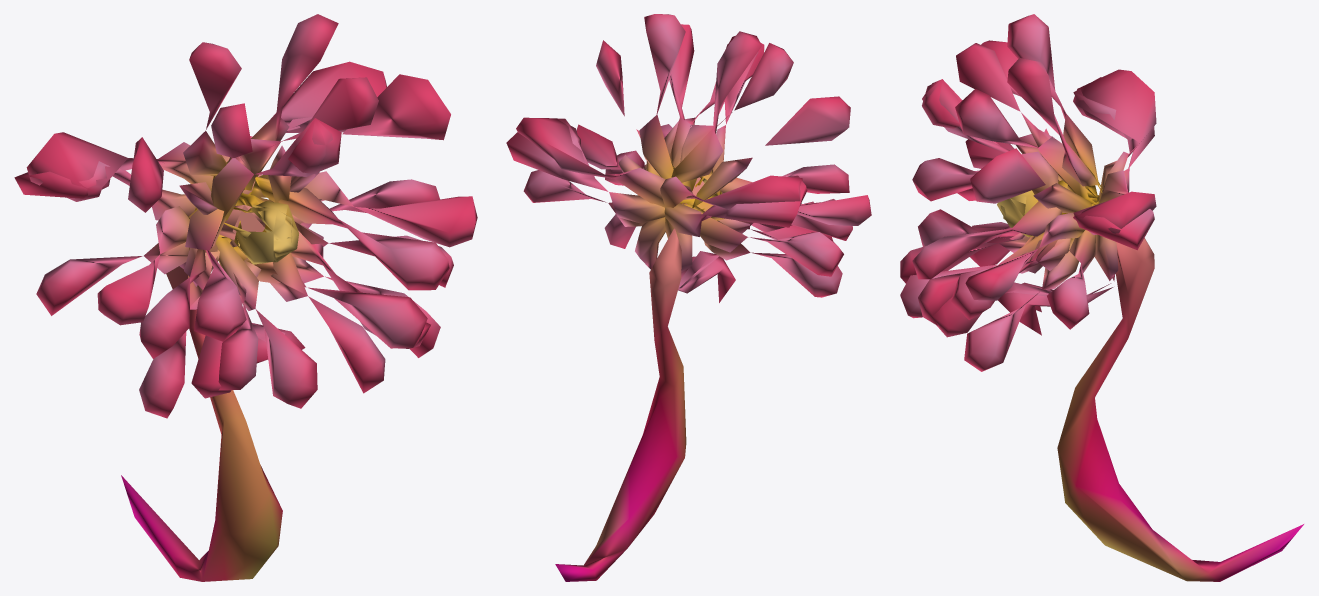
File: mesh_lod_3_4f6a5346-9dbe-52c9-aa7c-2db4c4a6b72e.glb
The picture shows the model from 3 angles, left to right: view 1: azimuth 30°, elevation 25°; view 2: azimuth 150°, elevation 25°; view 3: azimuth 270°, elevation 25°; orthographic projection. The views are drawn at different scales.
Visible parts, largest first — view 1: LOD 3_4f6a5346-9dbe-52c9-aa7c-2db4c4a6b72e; view 2: LOD 3_4f6a5346-9dbe-52c9-aa7c-2db4c4a6b72e; view 3: LOD 3_4f6a5346-9dbe-52c9-aa7c-2db4c4a6b72e.
Boxes of the visible parts, x1,y1,x2,y2 form: LOD 3_4f6a5346-9dbe-52c9-aa7c-2db4c4a6b72e: (14, 14, 477, 581); LOD 3_4f6a5346-9dbe-52c9-aa7c-2db4c4a6b72e: (506, 14, 871, 581); LOD 3_4f6a5346-9dbe-52c9-aa7c-2db4c4a6b72e: (900, 14, 1303, 581).
Size of the model in its own units: 1.44 by 2.22 by 1.54.
